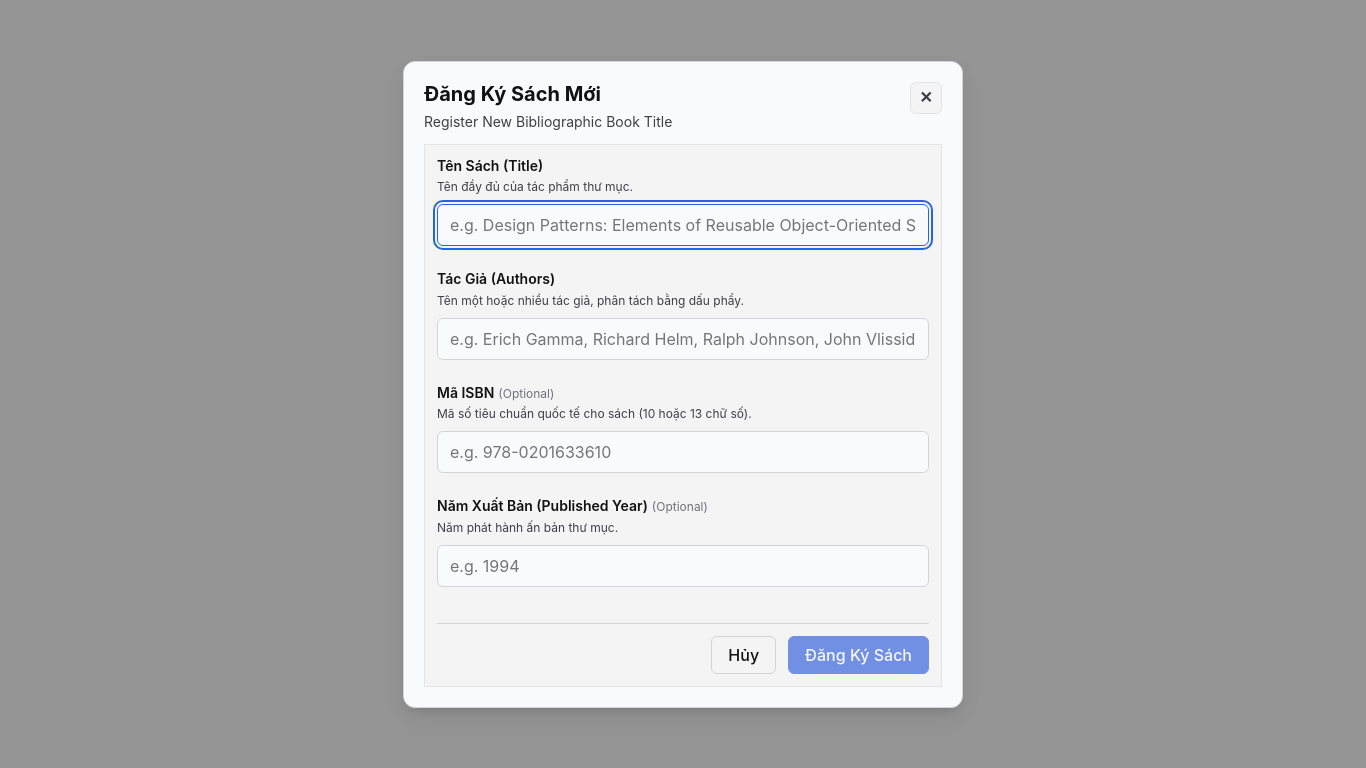
CreateBookModal Component (M-05) › enables submit button only when title and authors are non-empty
The width and height of the screenshot is (1366, 768).
Expected: the button "Đăng Ký Sách" is disabled, left=788, top=636, right=929, bottom=674
Replace the text in the field labelled "Tên Sách (Title)" with "Refactoring" at coordinates (683, 225), box left=437, top=204, right=929, bottom=246
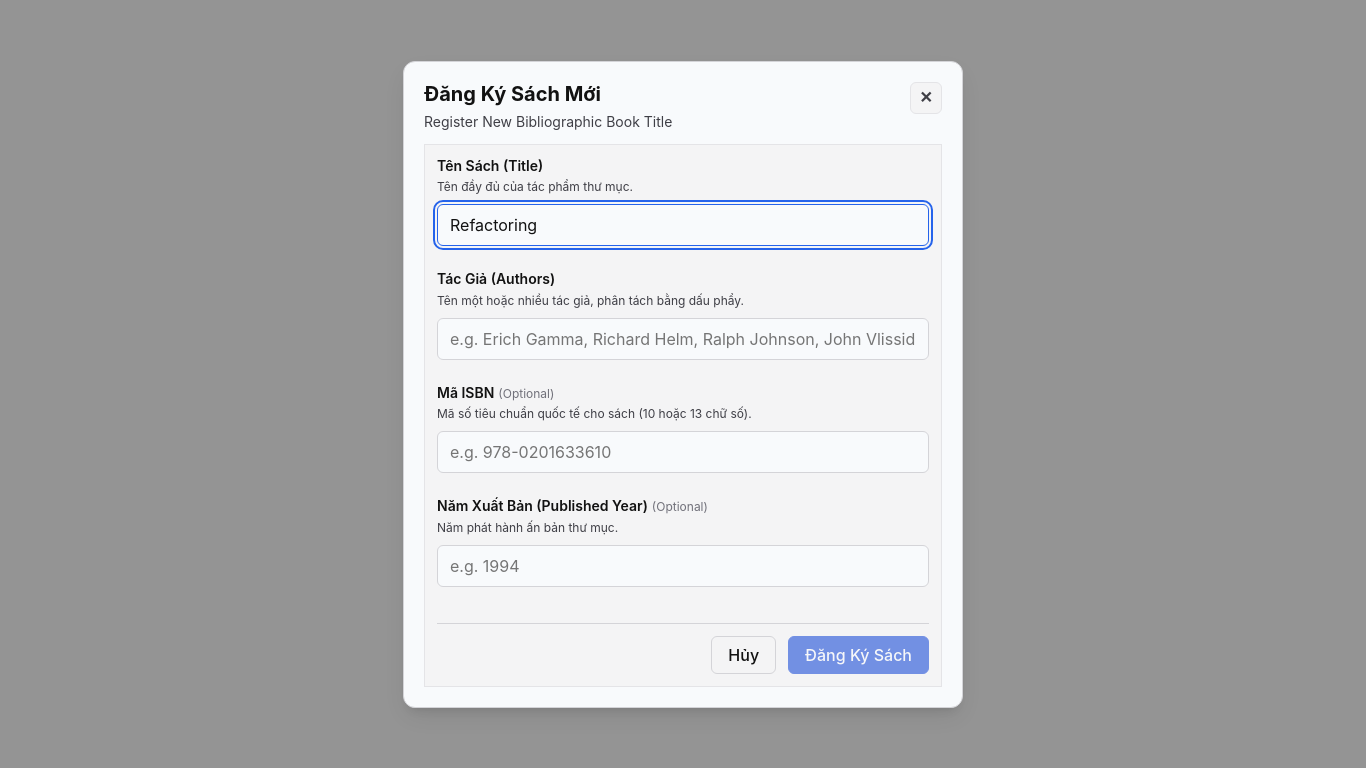
Expected: the button "Đăng Ký Sách" is disabled, left=788, top=636, right=929, bottom=674
Replace the text in the field labelled "Tác Giả (Authors)" with "Martin Fowler, Kent Beck" at coordinates (683, 338), box left=437, top=318, right=929, bottom=360
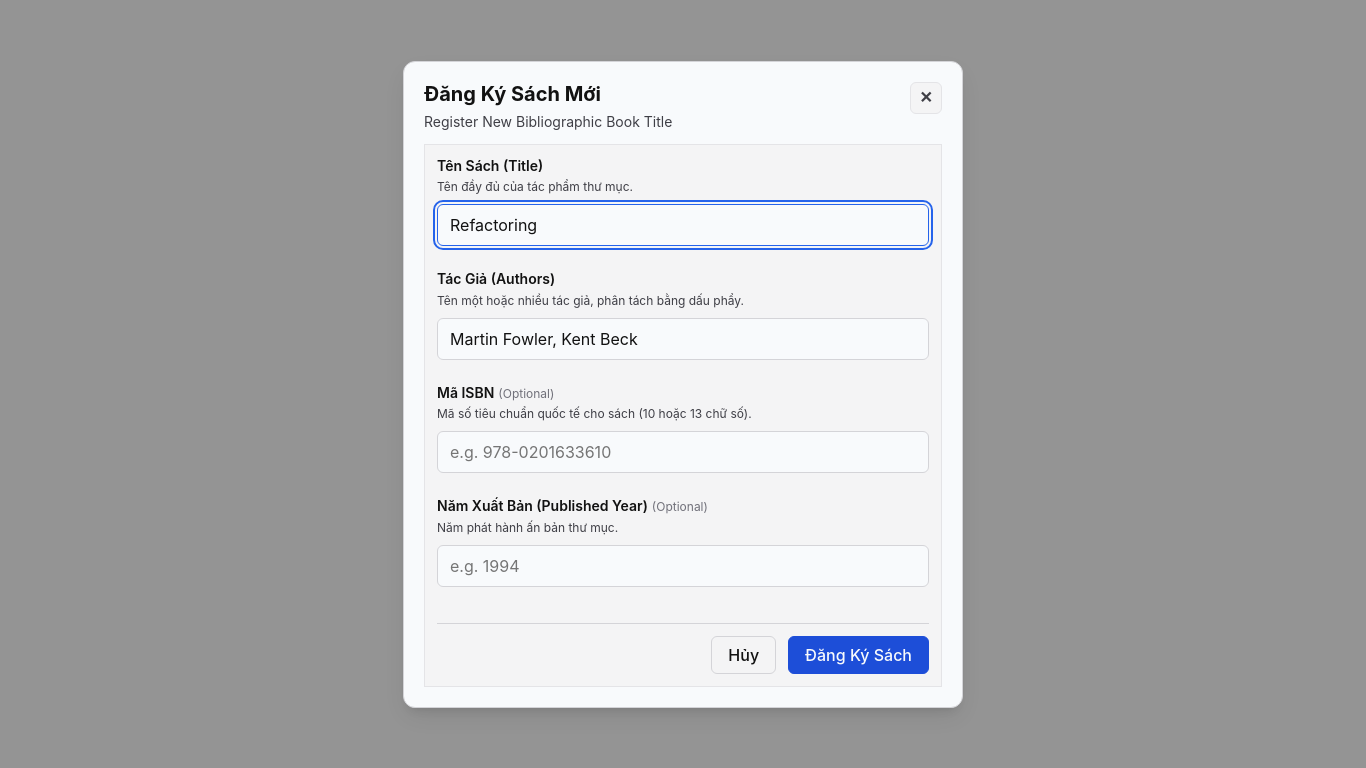
Now the button "Đăng Ký Sách" is enabled, box left=788, top=636, right=929, bottom=674
